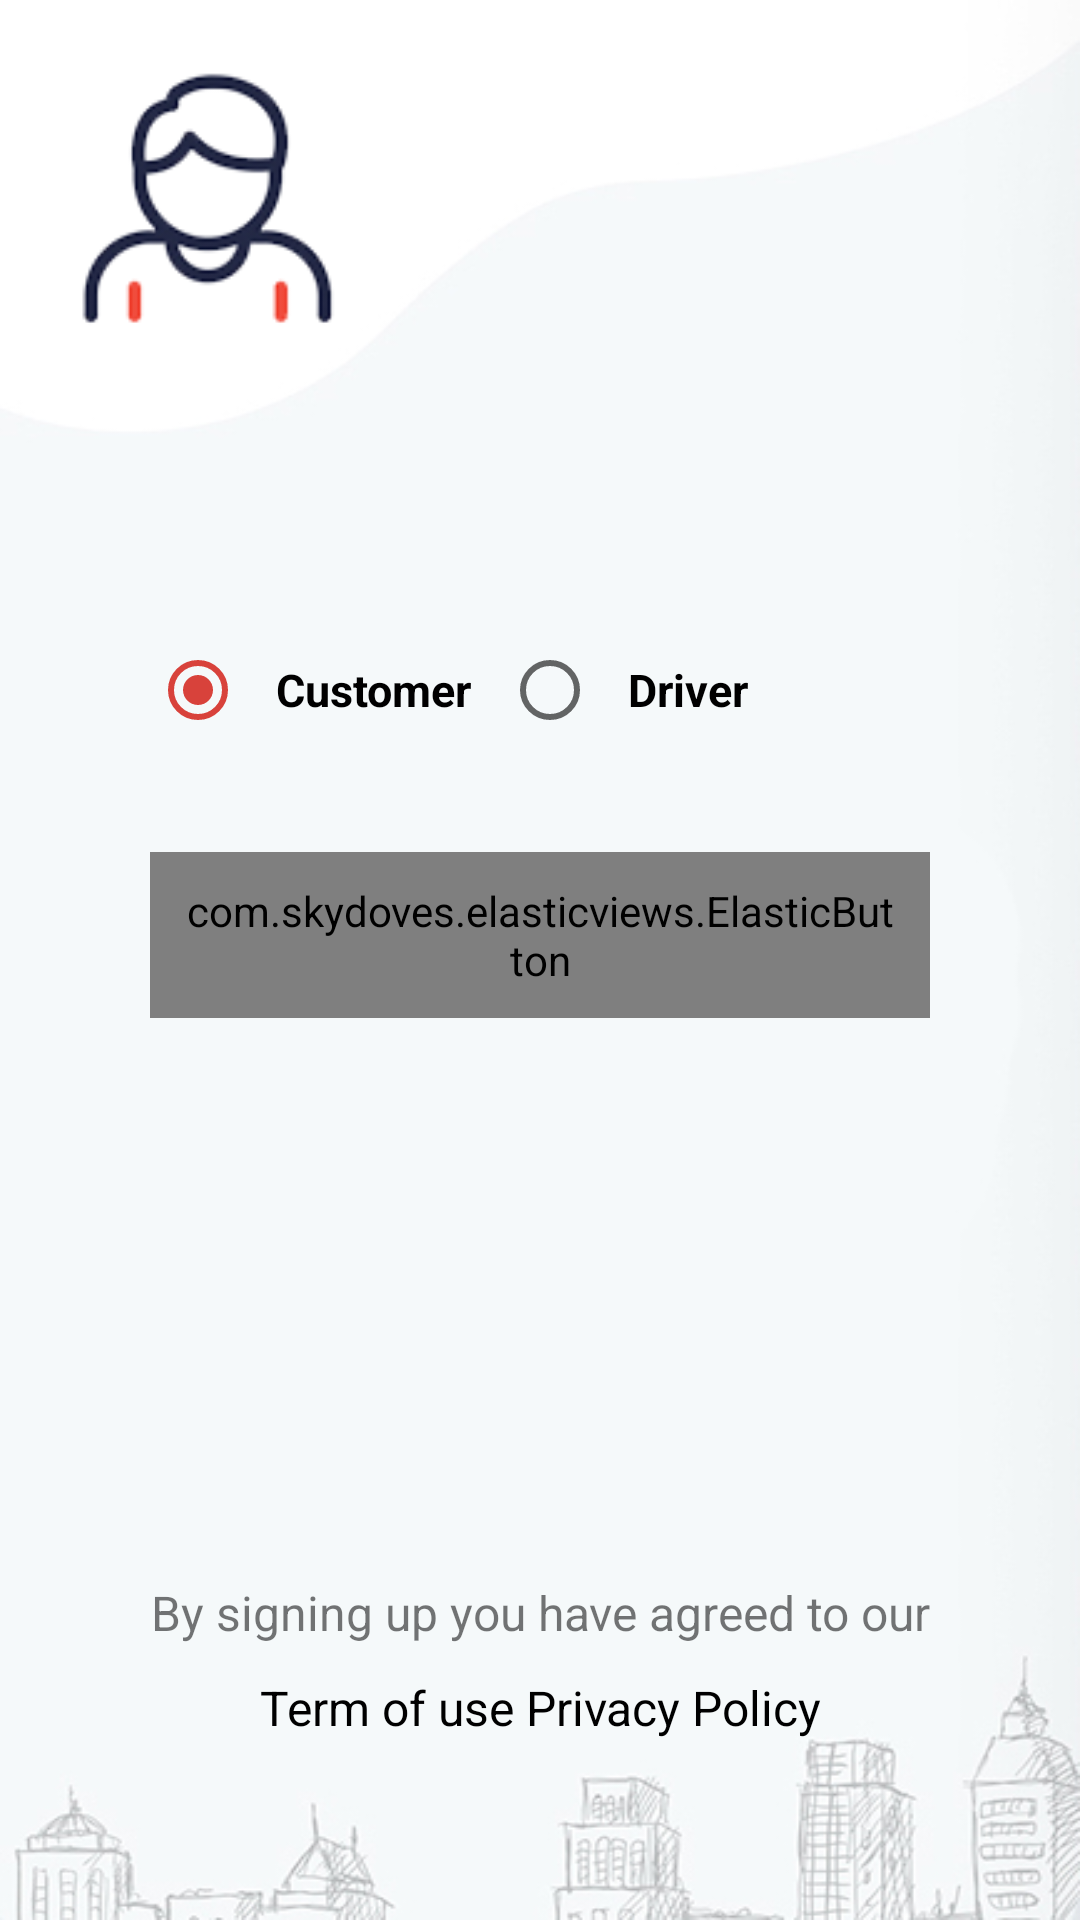

Where icons sit on this 1080 × 1920 app screen, as (x1, y1, x2, y2):
user: (82, 73, 332, 323)
